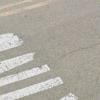Crosswalk: (2, 31, 67, 99)
